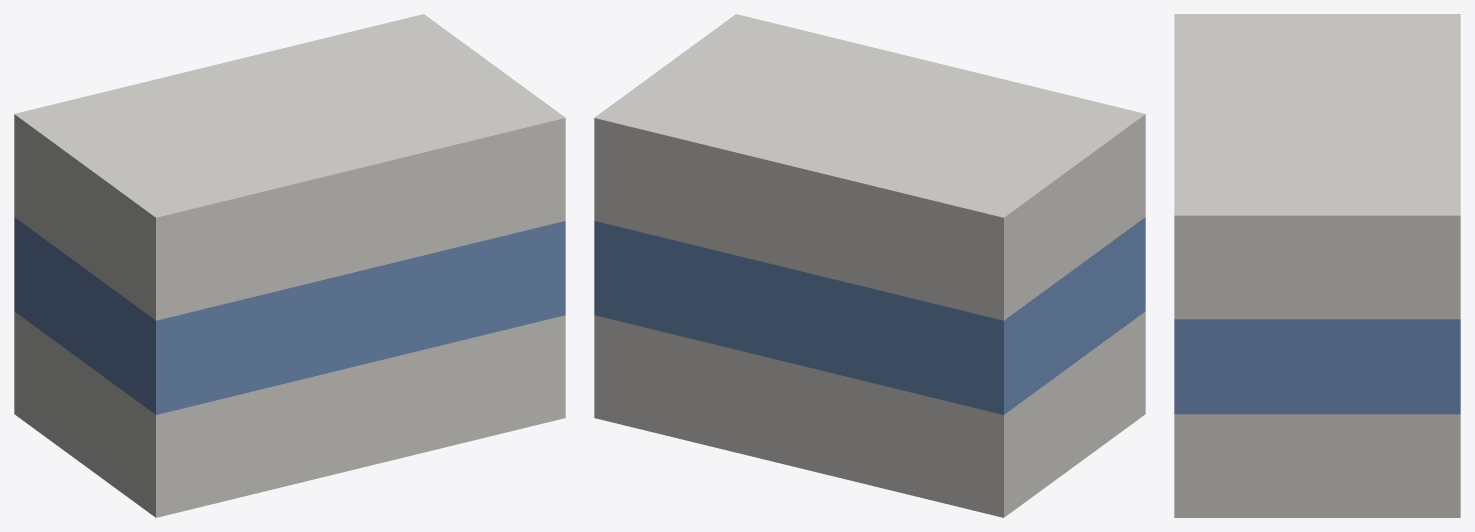
Rendered from fardo.fbx.
The picture shows the model from 3 angles, left to right: view 1: azimuth 30°, elevation 25°; view 2: azimuth 150°, elevation 25°; view 3: azimuth 270°, elevation 25°; orthographic projection.
Parts seen in each view (by area): view 1: fardo; view 2: fardo; view 3: fardo.
Boxes of the visible parts, x1,y1,x2,y2 form: fardo: [14, 14, 565, 517]; fardo: [594, 14, 1145, 517]; fardo: [1174, 14, 1460, 517].
Bounding box in the file's own units: 50 × 35 × 30.
